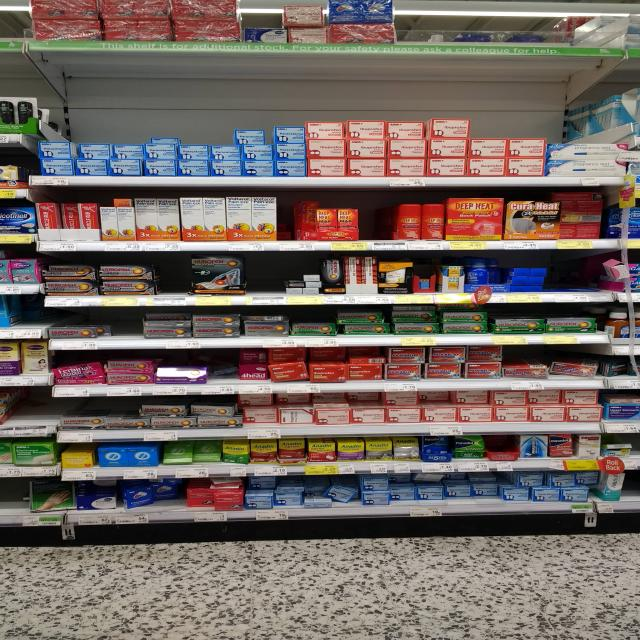void: (543, 0, 592, 56), (400, 1, 447, 54), (451, 2, 494, 57), (361, 188, 399, 250), (496, 2, 540, 54), (250, 252, 282, 306), (158, 254, 188, 307), (30, 387, 61, 438), (578, 252, 608, 302), (0, 387, 28, 437), (1, 479, 31, 525), (551, 253, 579, 302)
